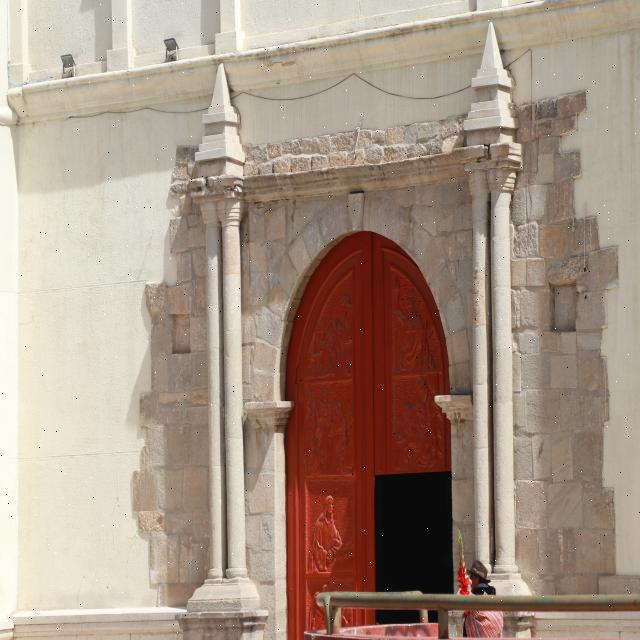CAMPANARIO: (166, 124, 524, 640)
